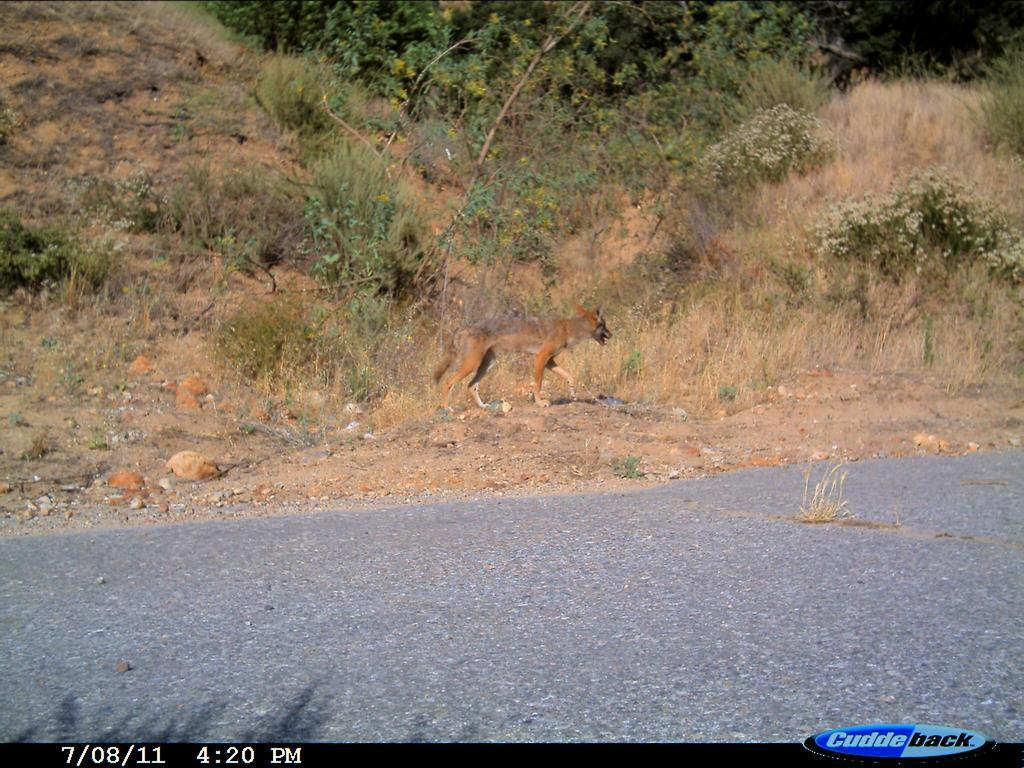coyote: (427, 299, 617, 420)
